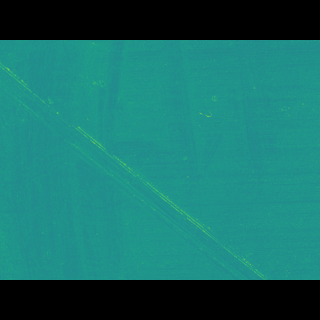Loch: (0, 87, 271, 250), (0, 68, 133, 250), (224, 69, 281, 164), (160, 67, 193, 206)
